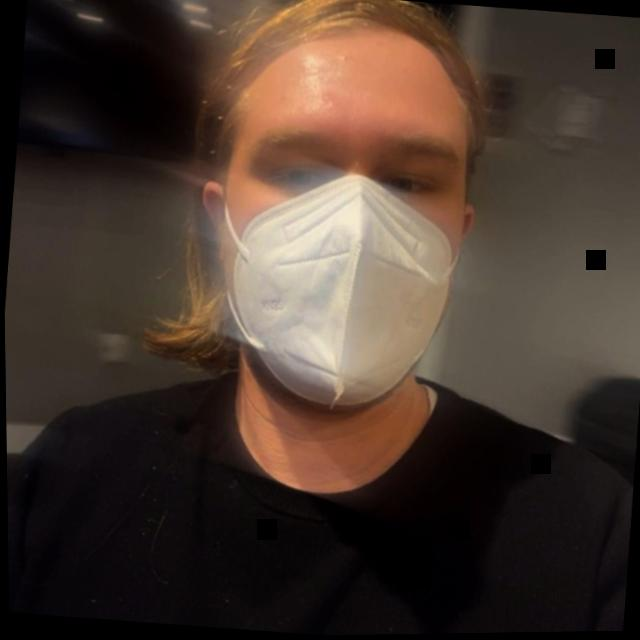Mask: (141, 0, 517, 415)
